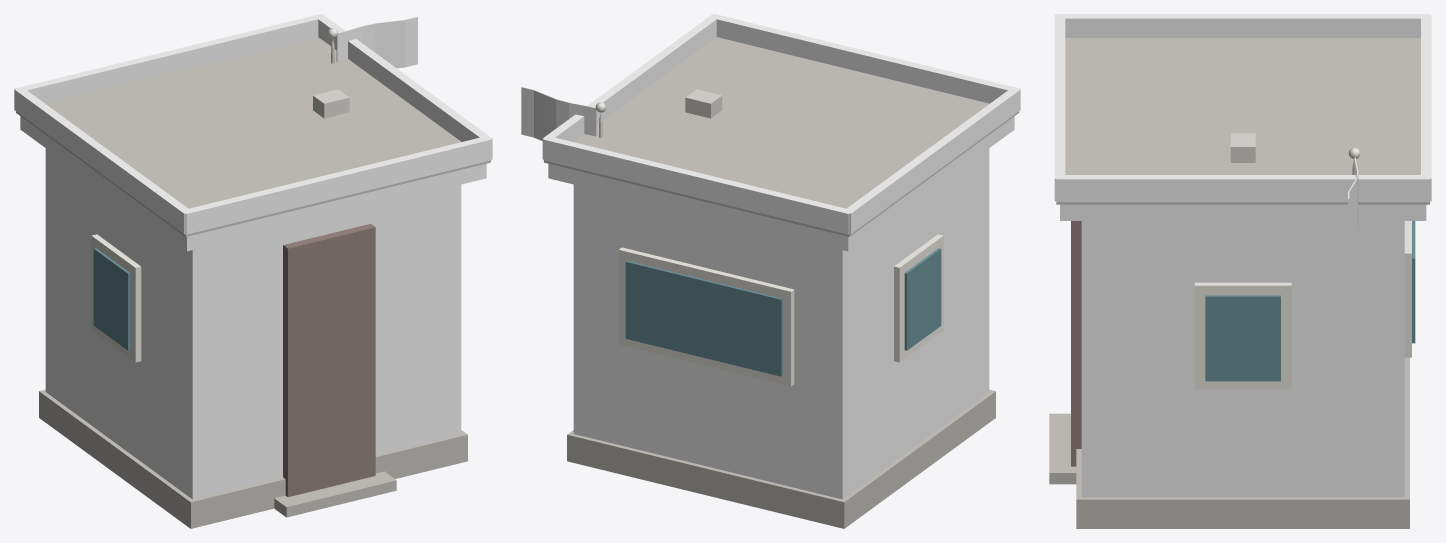
The model's file is guarita.glb.
3 views of the same model, side by side, from view 1: azimuth 30°, elevation 25°; view 2: azimuth 150°, elevation 25°; view 3: azimuth 270°, elevation 25° (orthographic). The views are drawn at different scales.
Parts seen in each view (by area): view 1: Guarita; view 2: Guarita; view 3: Guarita.
Boxes of the visible parts, left/top/right/bottom form: Guarita: left=14, top=14, right=492, bottom=528; Guarita: left=521, top=14, right=1020, bottom=528; Guarita: left=1049, top=14, right=1431, bottom=528.
Bounding box in the file's own units: 2.59 × 2.31 × 2.13.
